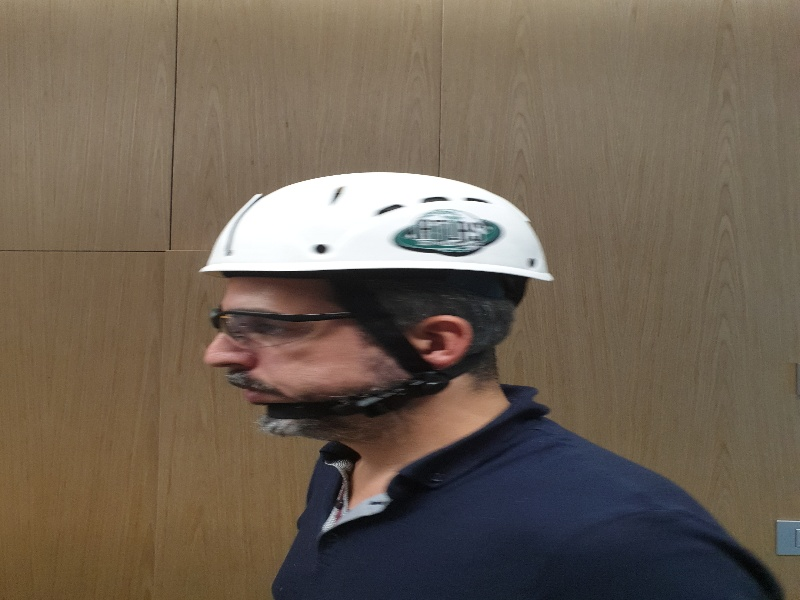Baret: (197, 171, 552, 284)
Gozluk: (210, 306, 365, 349)
